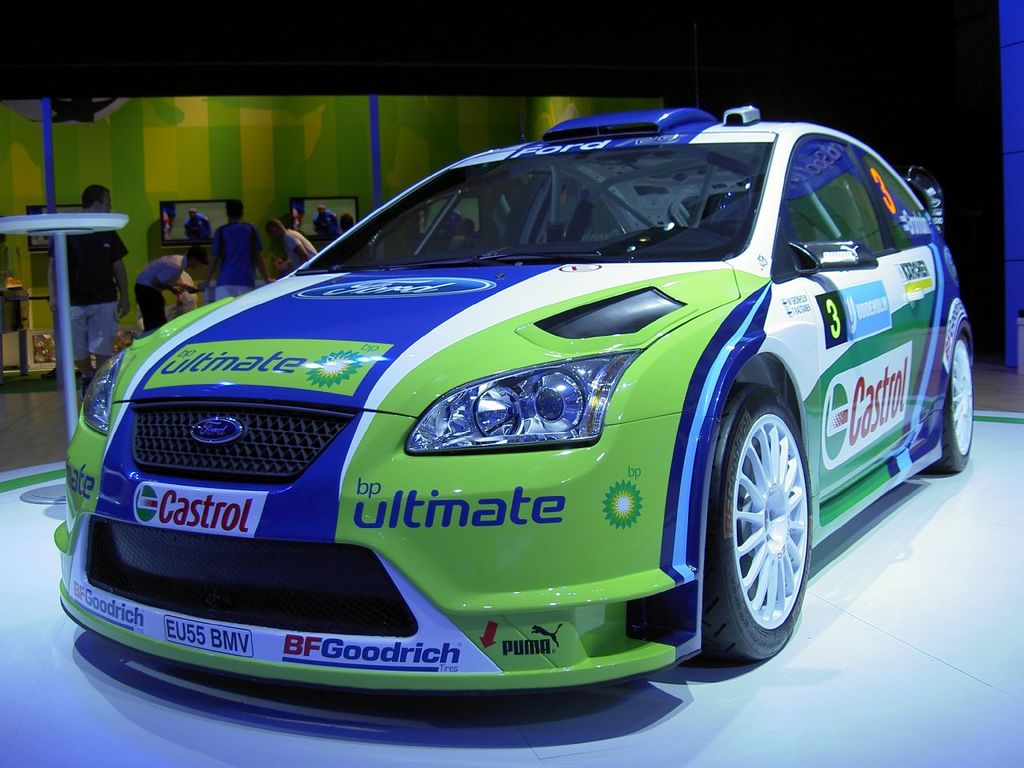Person: (47, 183, 474, 402)
